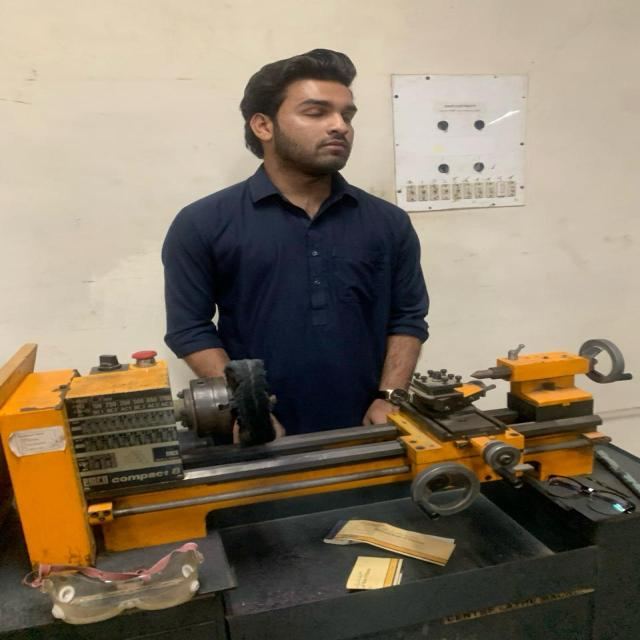dress: (155, 156, 436, 440)
